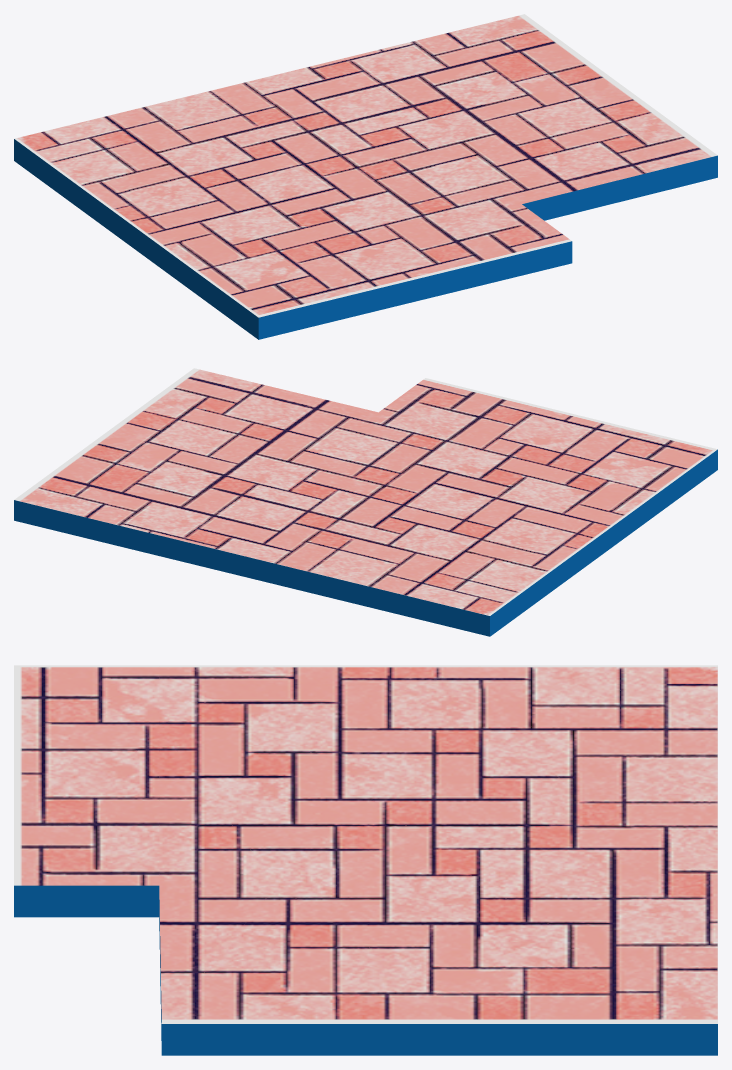
Rendered from BathroomFloor_Modified.fbx.
The picture shows the model from 3 angles, top to bottom: view 1: azimuth 30°, elevation 25°; view 2: azimuth 150°, elevation 25°; view 3: azimuth 270°, elevation 25°; orthographic projection. The views are drawn at different scales.
Visible parts, largest first — view 1: BathroomFloor_Modifed; view 2: BathroomFloor_Modifed; view 3: BathroomFloor_Modifed.
Part boxes in pixels (x1=…): BathroomFloor_Modifed: x1=14, y1=14, x2=717, y2=339; BathroomFloor_Modifed: x1=14, y1=368, x2=717, y2=636; BathroomFloor_Modifed: x1=14, y1=665, x2=717, y2=1055.
Size of the model in its own units: 475 by 19.69 by 394.
